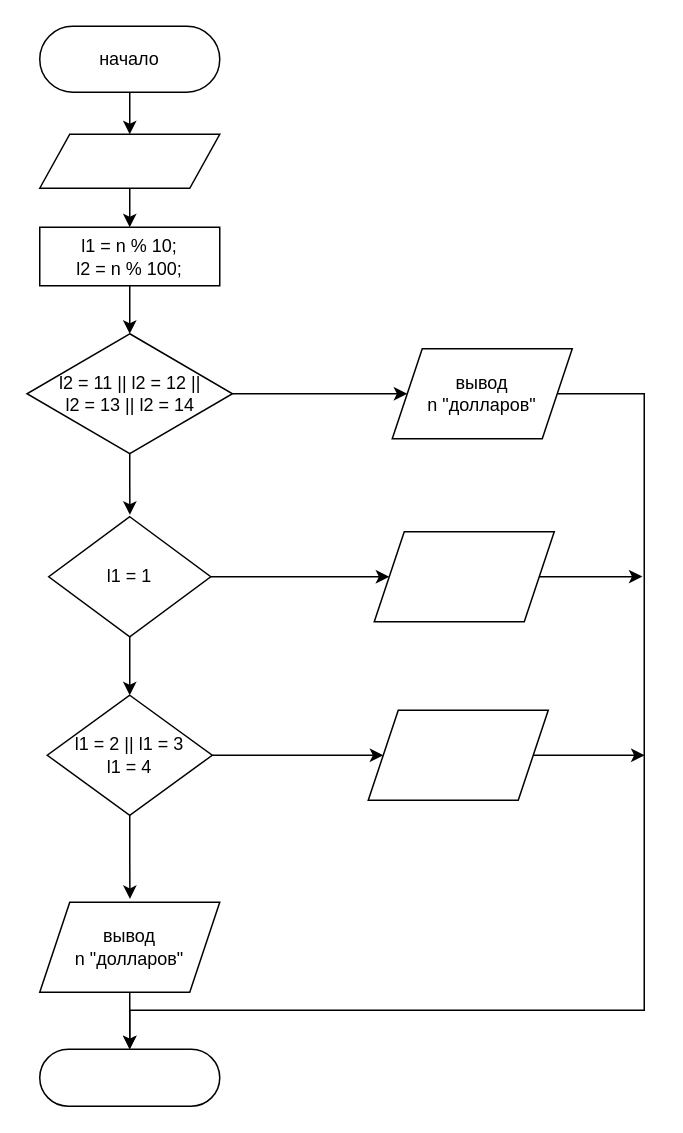
Some shapes in this 683 by 1133 pixel diagram are drawn without their labels. Each missing label, with the box of its shape:
ввод n: (38, 133, 220, 188)
вывод n "доллар": (373, 530, 554, 622)
вывод n "доллара": (367, 709, 548, 800)
конец: (38, 1048, 220, 1106)
